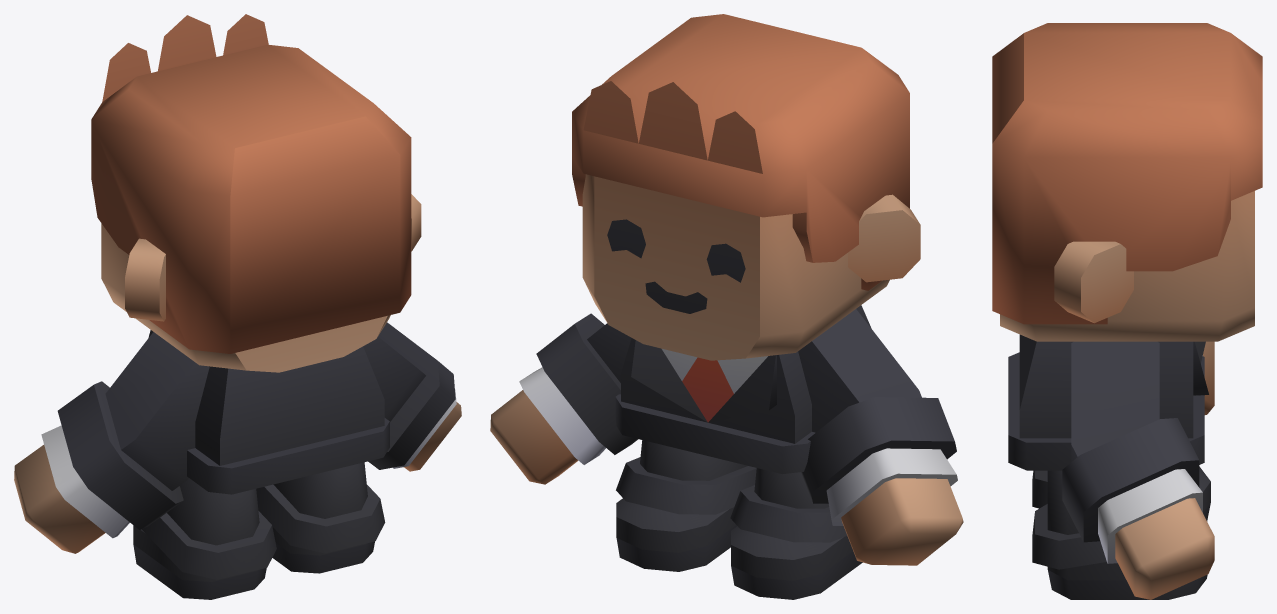
File: hand_2_w0.fbx
3 renders of one model, left to right at view 1: azimuth 30°, elevation 25°; view 2: azimuth 150°, elevation 25°; view 3: azimuth 270°, elevation 25°, orthographic. The views are drawn at different scales.
Parts seen in each view (by area): view 1: body-mesh; view 2: body-mesh; view 3: body-mesh.
Boxes of the visible parts, box(x1,y1,x2,y2) form: body-mesh: box(14, 14, 461, 599); body-mesh: box(490, 14, 963, 599); body-mesh: box(992, 23, 1262, 599).
Bounding box in the file's own units: 0.92 × 1 × 0.4711.
